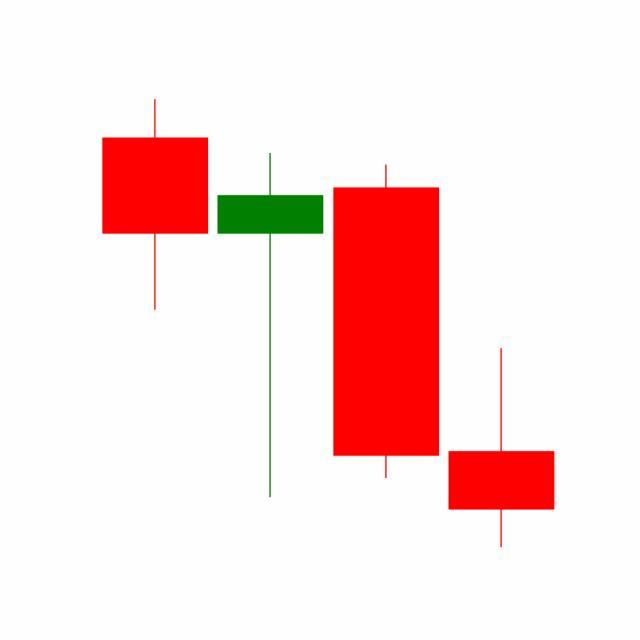Three Outside Up-Down: (211, 148, 555, 548)
